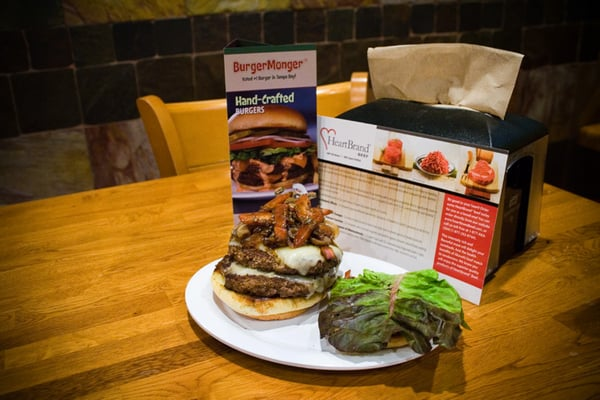soup: (209, 185, 345, 321), (387, 268, 466, 352)
